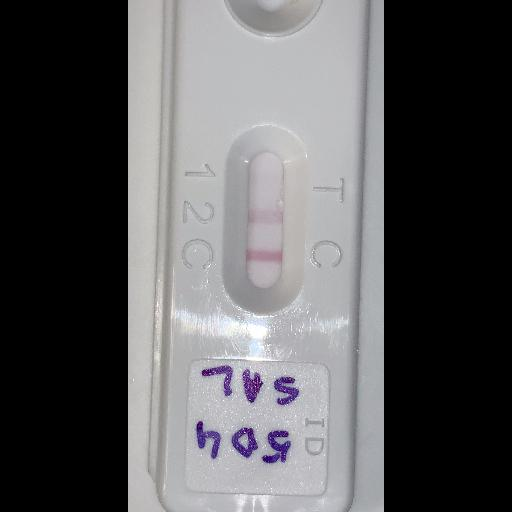Pos: (161, 0, 369, 512)
